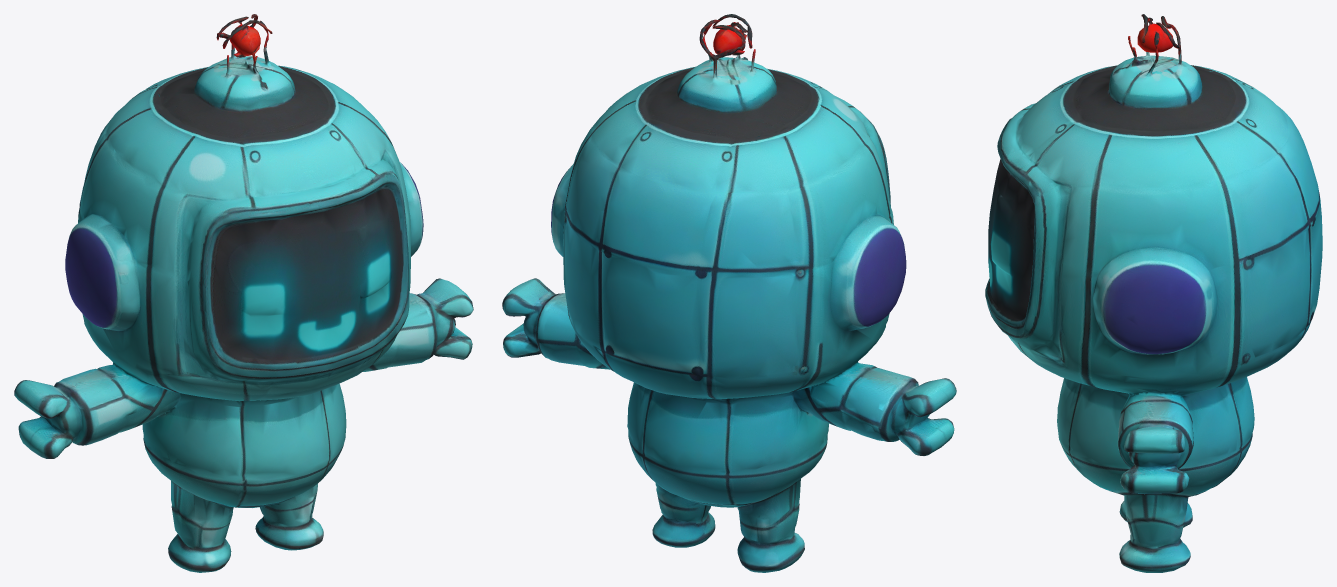
File: hero3d-robot-anim.glb
3 renders of one model, left to right at view 1: azimuth 30°, elevation 25°; view 2: azimuth 150°, elevation 25°; view 3: azimuth 270°, elevation 25°, orthographic.
Bounding box in the file's own units: 1.7 × 2 × 1.15.
1 material, 1 textured.
